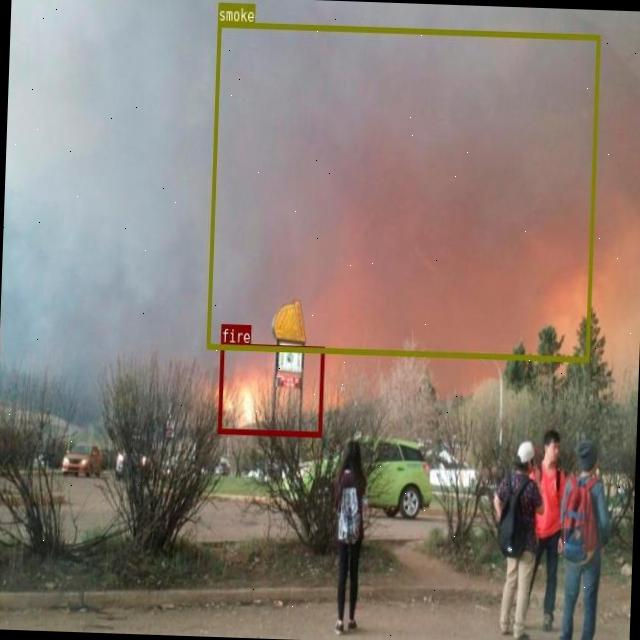fire: (217, 342, 323, 437)
smoke: (205, 21, 599, 360)
